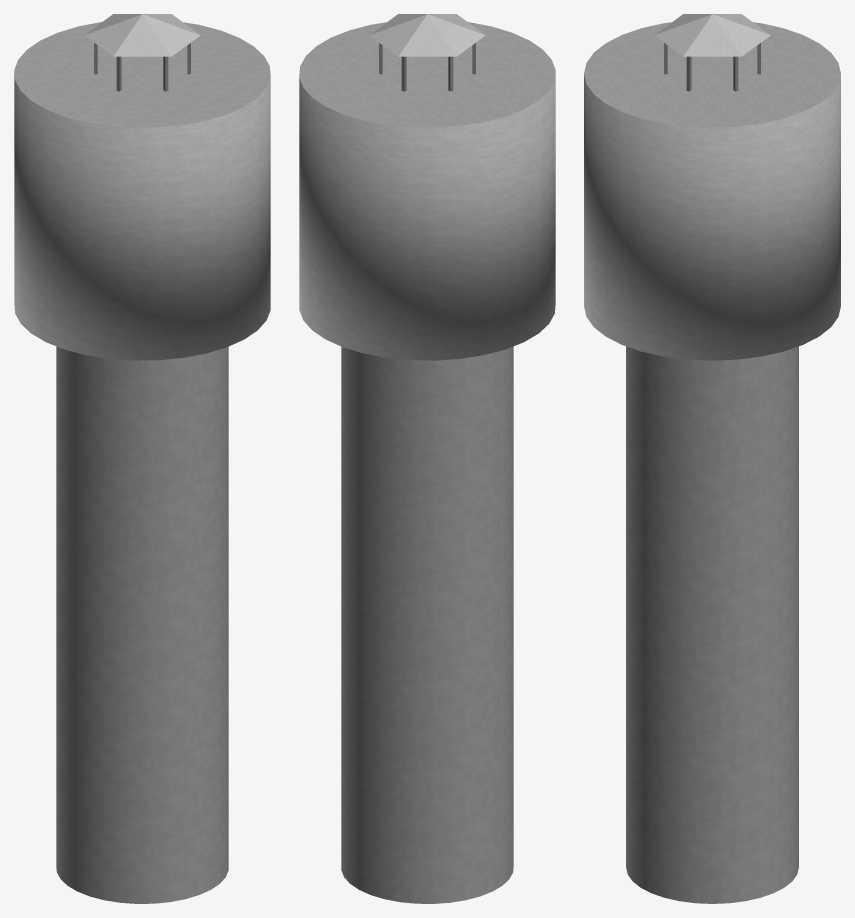
File: water-tower-concrete-37x11-cbj_LOD01.gltf
3 views of the same model, side by side, from view 1: azimuth 30°, elevation 25°; view 2: azimuth 150°, elevation 25°; view 3: azimuth 270°, elevation 25° (orthographic).
Parts seen in each view (by area): view 1: Cylinder01; view 2: Cylinder01; view 3: Cylinder01.
Part boxes in pixels (bbox=[...]): Cylinder01: bbox=[14, 14, 270, 903]; Cylinder01: bbox=[299, 14, 555, 903]; Cylinder01: bbox=[584, 14, 840, 903].
Size of the model in its own units: 11 by 40.3 by 11.
